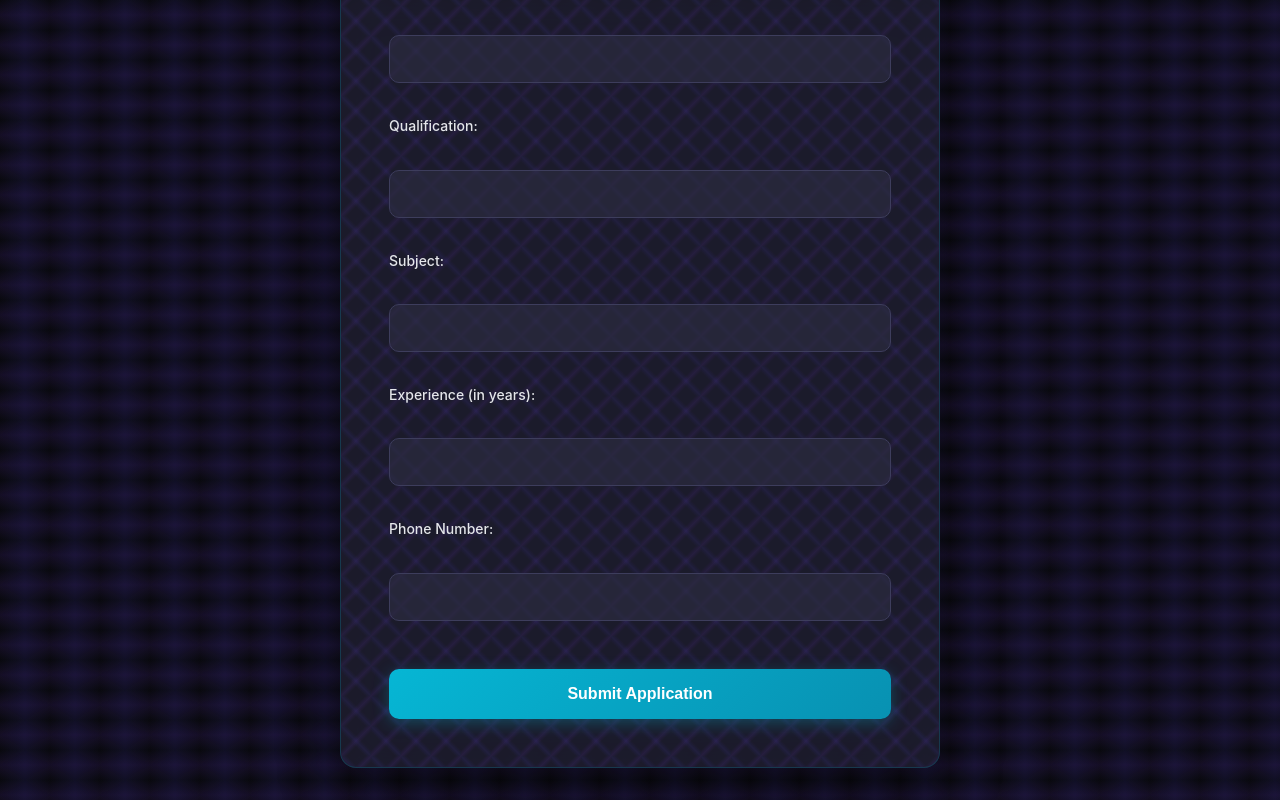
Scenario: submits_invalid_application_form
(page scrolled)
Note: Attempt to submit without filling in the form
Click the button "Submit Application" at (640, 694), box [389,669,891,719]
(page scrolled)
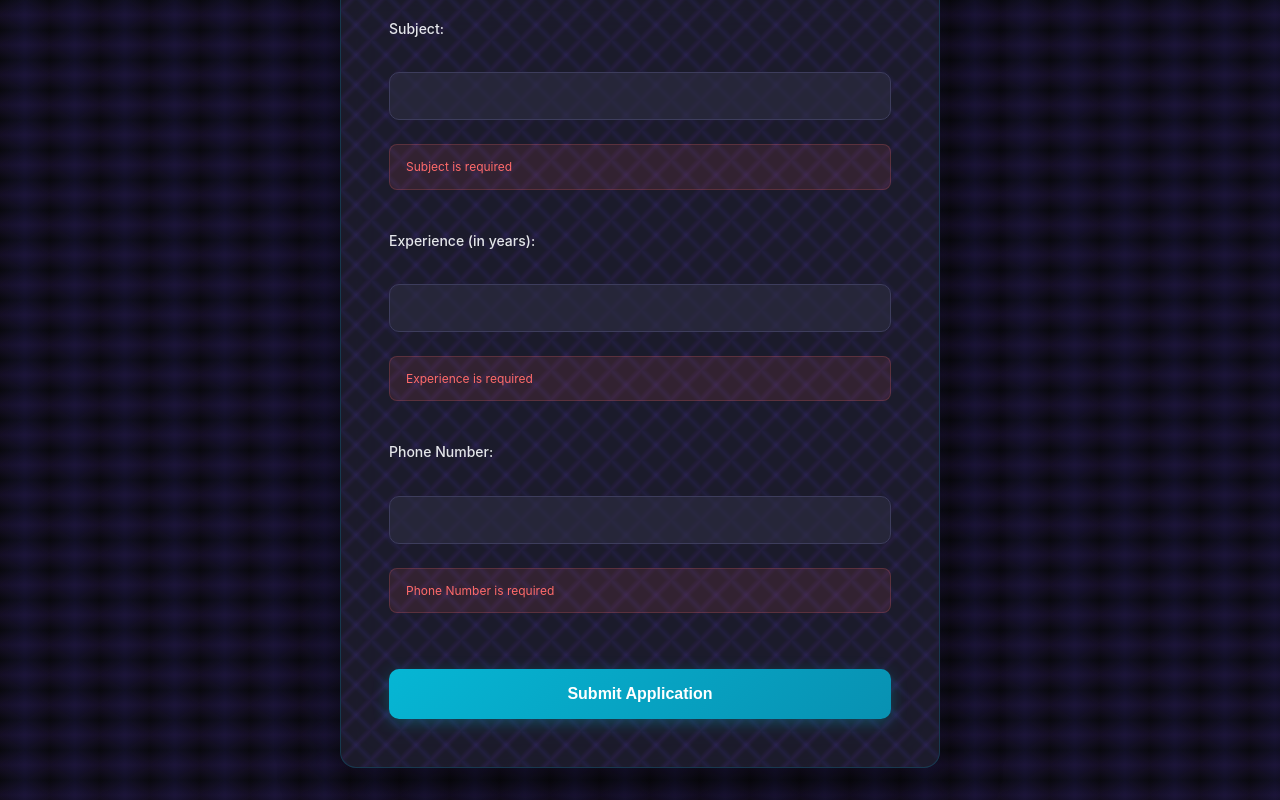
Expected: the text "Subject is required" is shown, [389,144,891,190]
Expected: the text "Experience is required" is shown, [389,356,891,401]
Expected: the text "Phone Number is required" is shown, [389,568,891,613]
